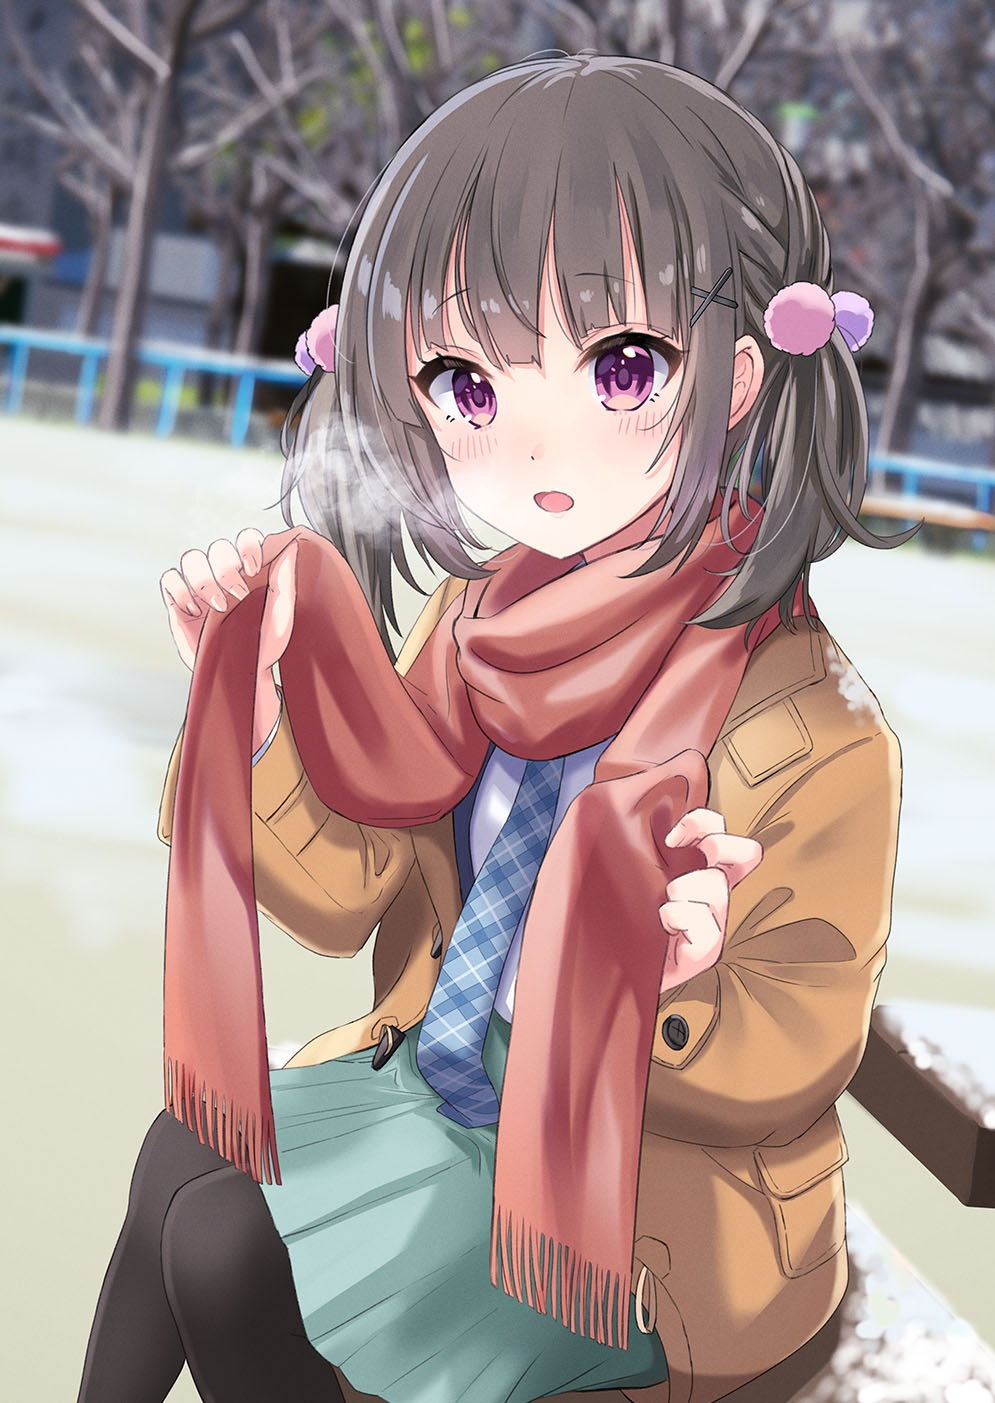纸片人正脸: (322, 42, 868, 593)
